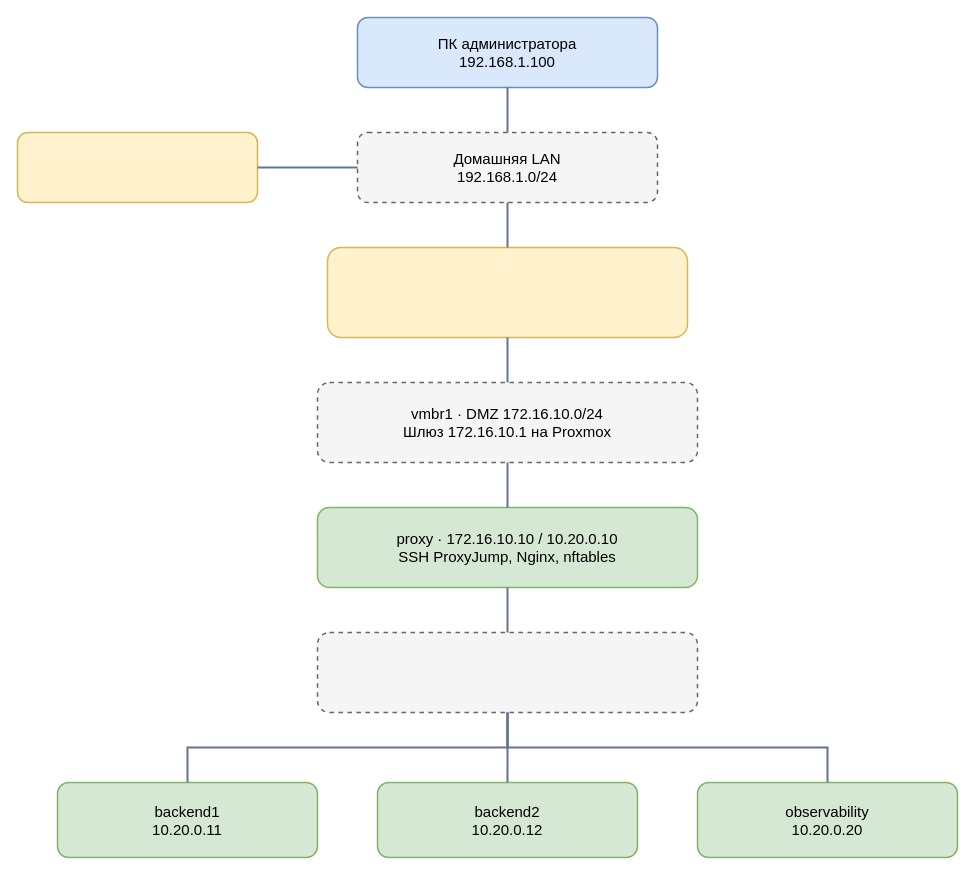
This 976x876 diagram has some shape labels left out. The shapes that lost their labels are listed below. From the top down, each one's box as (x1, y1, x2, y2) in pixels, then its label:
(16, 131, 258, 203): Роутер 192.168.1.1
(326, 246, 688, 338): Proxmox vmbr0 · 192.168.1.101 Маршрутизация и SNAT
(316, 631, 698, 713): vmbr2 · 10.20.0.0/24 Шлюз 10.20.0.10 на proxy
